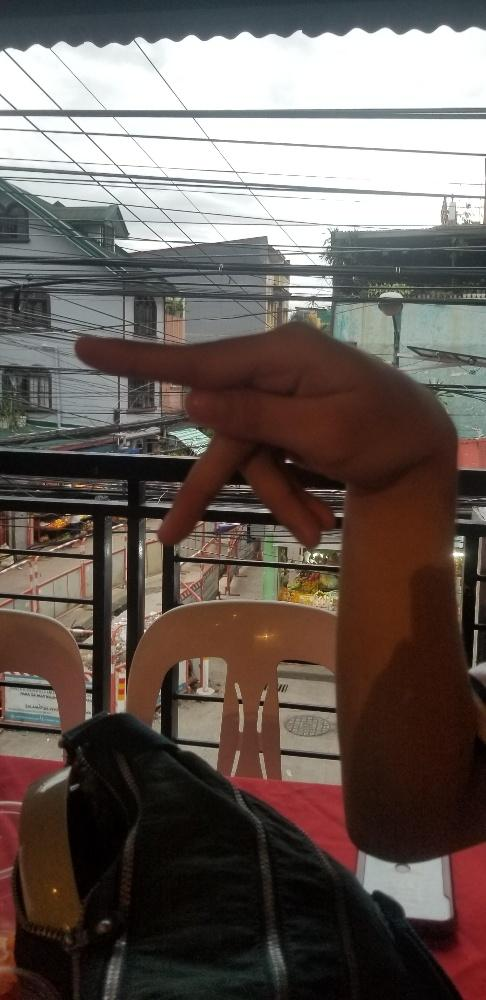p: (74, 321, 456, 550)
